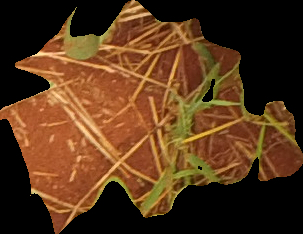soil: (3, 2, 300, 231)
